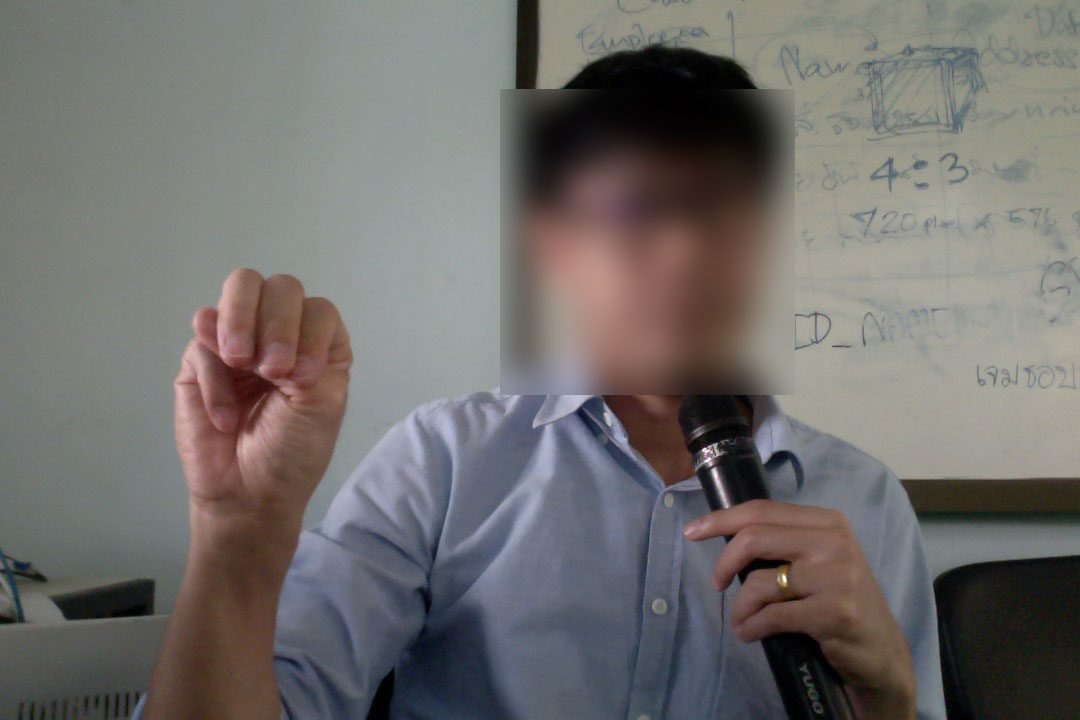mor: (159, 261, 359, 527)
